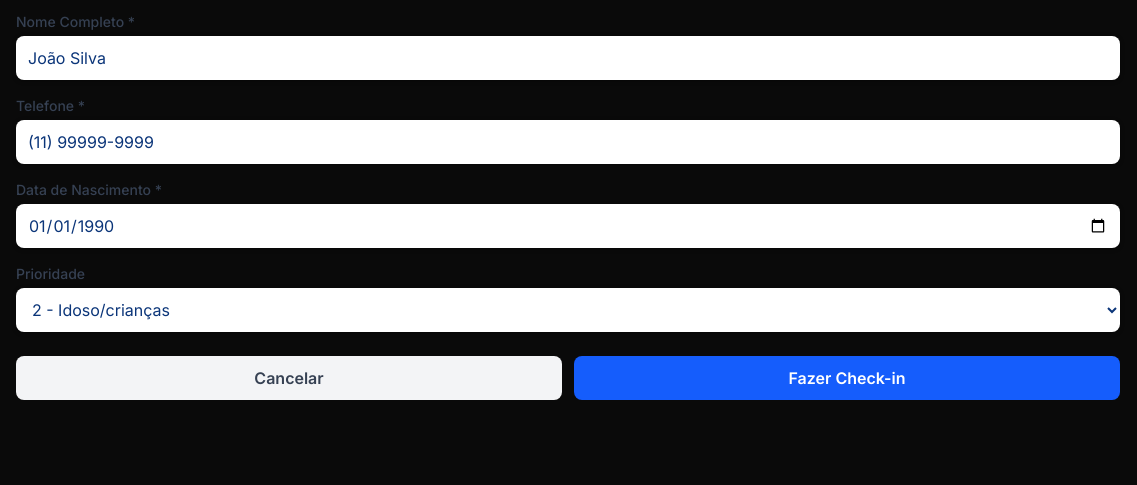
Scenario: NewPatientCheckInForm › validates phone is required
# Clear phone field
Clear the field showing "(11) 99999-9999" below "Telefone *" at (568, 142), box [16,120,1120,164]
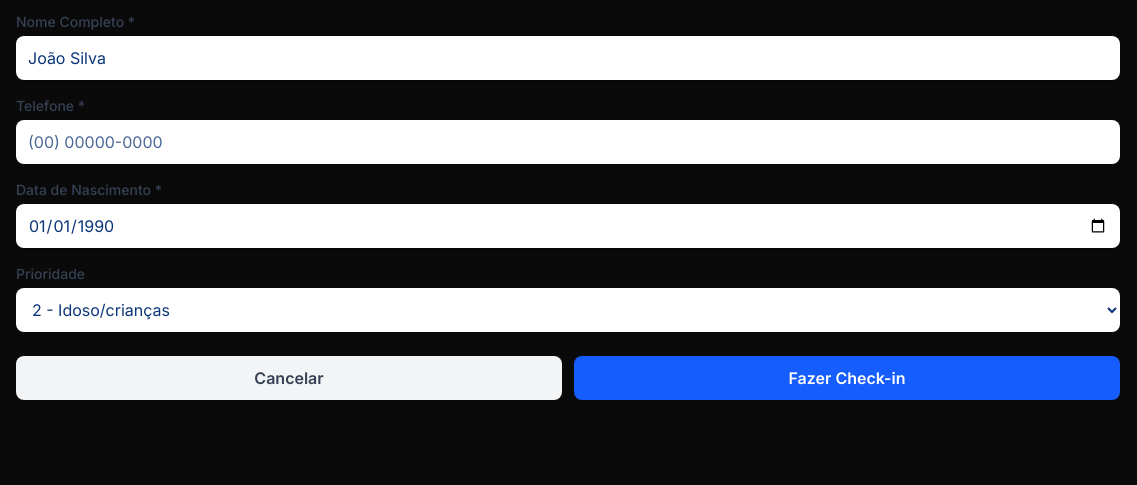
# Try to submit
Click the button "Fazer Check-in" at (847, 378), box [574,356,1120,400]
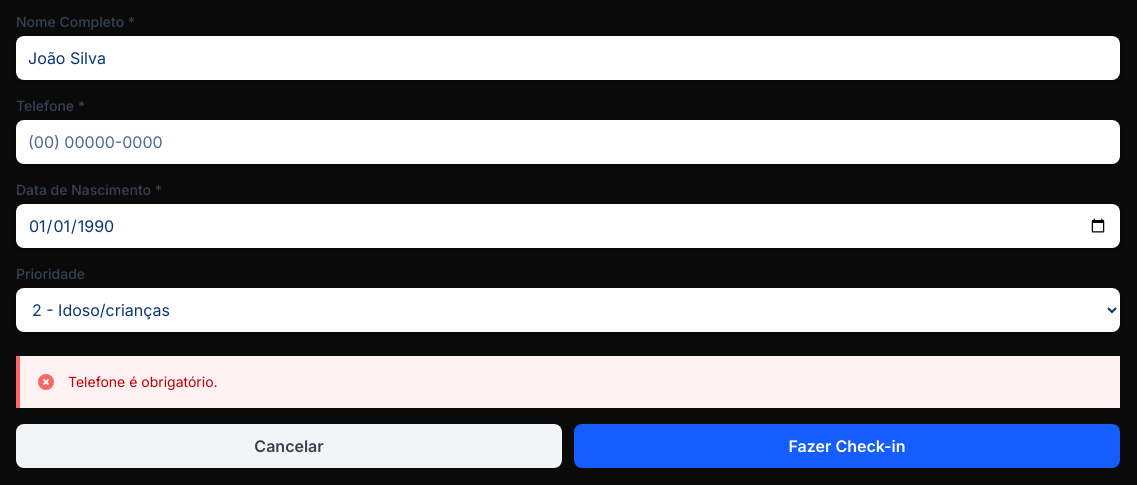
Now the text "Telefone é obrigatório." is shown, box [68,373,218,390]
